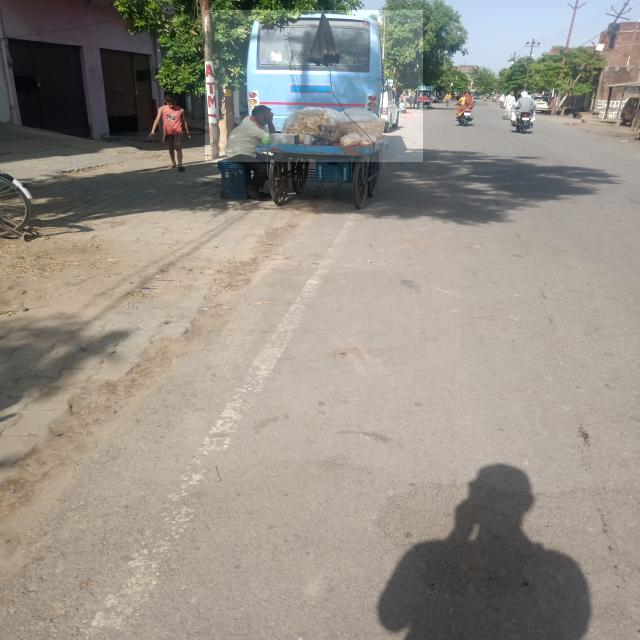Bus: (205, 10, 423, 162)
